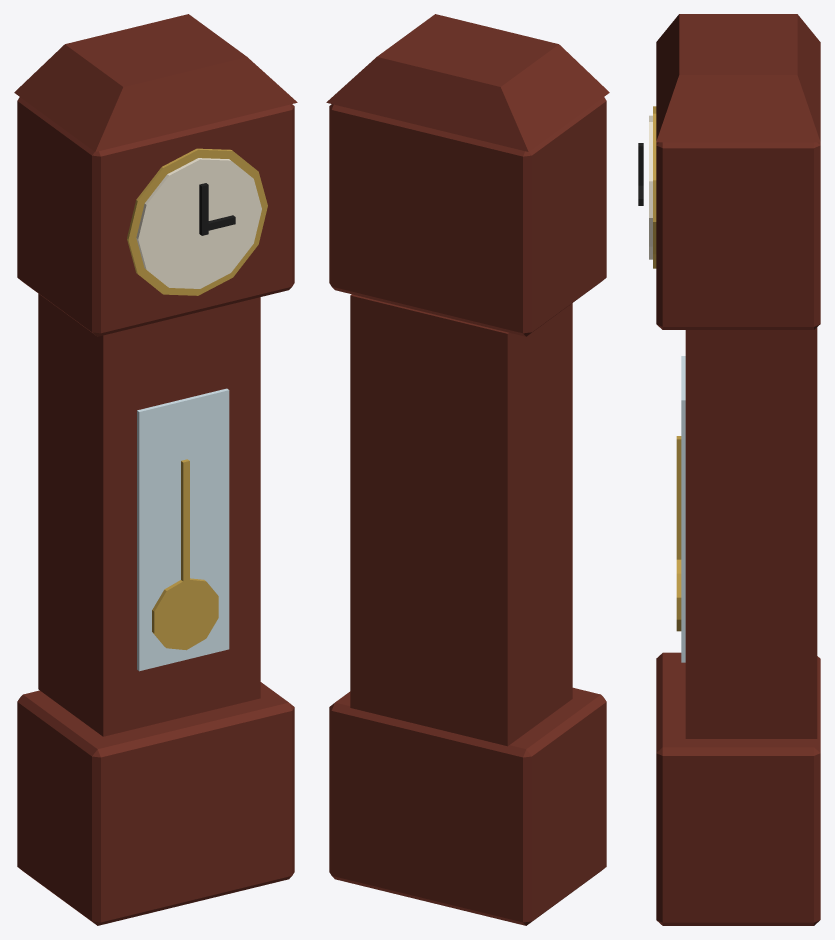
File: FUR_GrandfatherClock.fbx
The picture shows the model from 3 angles, left to right: view 1: azimuth 30°, elevation 25°; view 2: azimuth 150°, elevation 25°; view 3: azimuth 270°, elevation 25°; orthographic projection.
Visible parts, largest first — view 1: FUR_GrandfatherClock; view 2: FUR_GrandfatherClock; view 3: FUR_GrandfatherClock.
Part boxes in pixels (x1,y1,x2,y2): FUR_GrandfatherClock: (14, 14, 297, 925); FUR_GrandfatherClock: (326, 14, 609, 925); FUR_GrandfatherClock: (638, 14, 820, 925).
Size of the model in its own units: 1.8 by 7 by 1.39.
